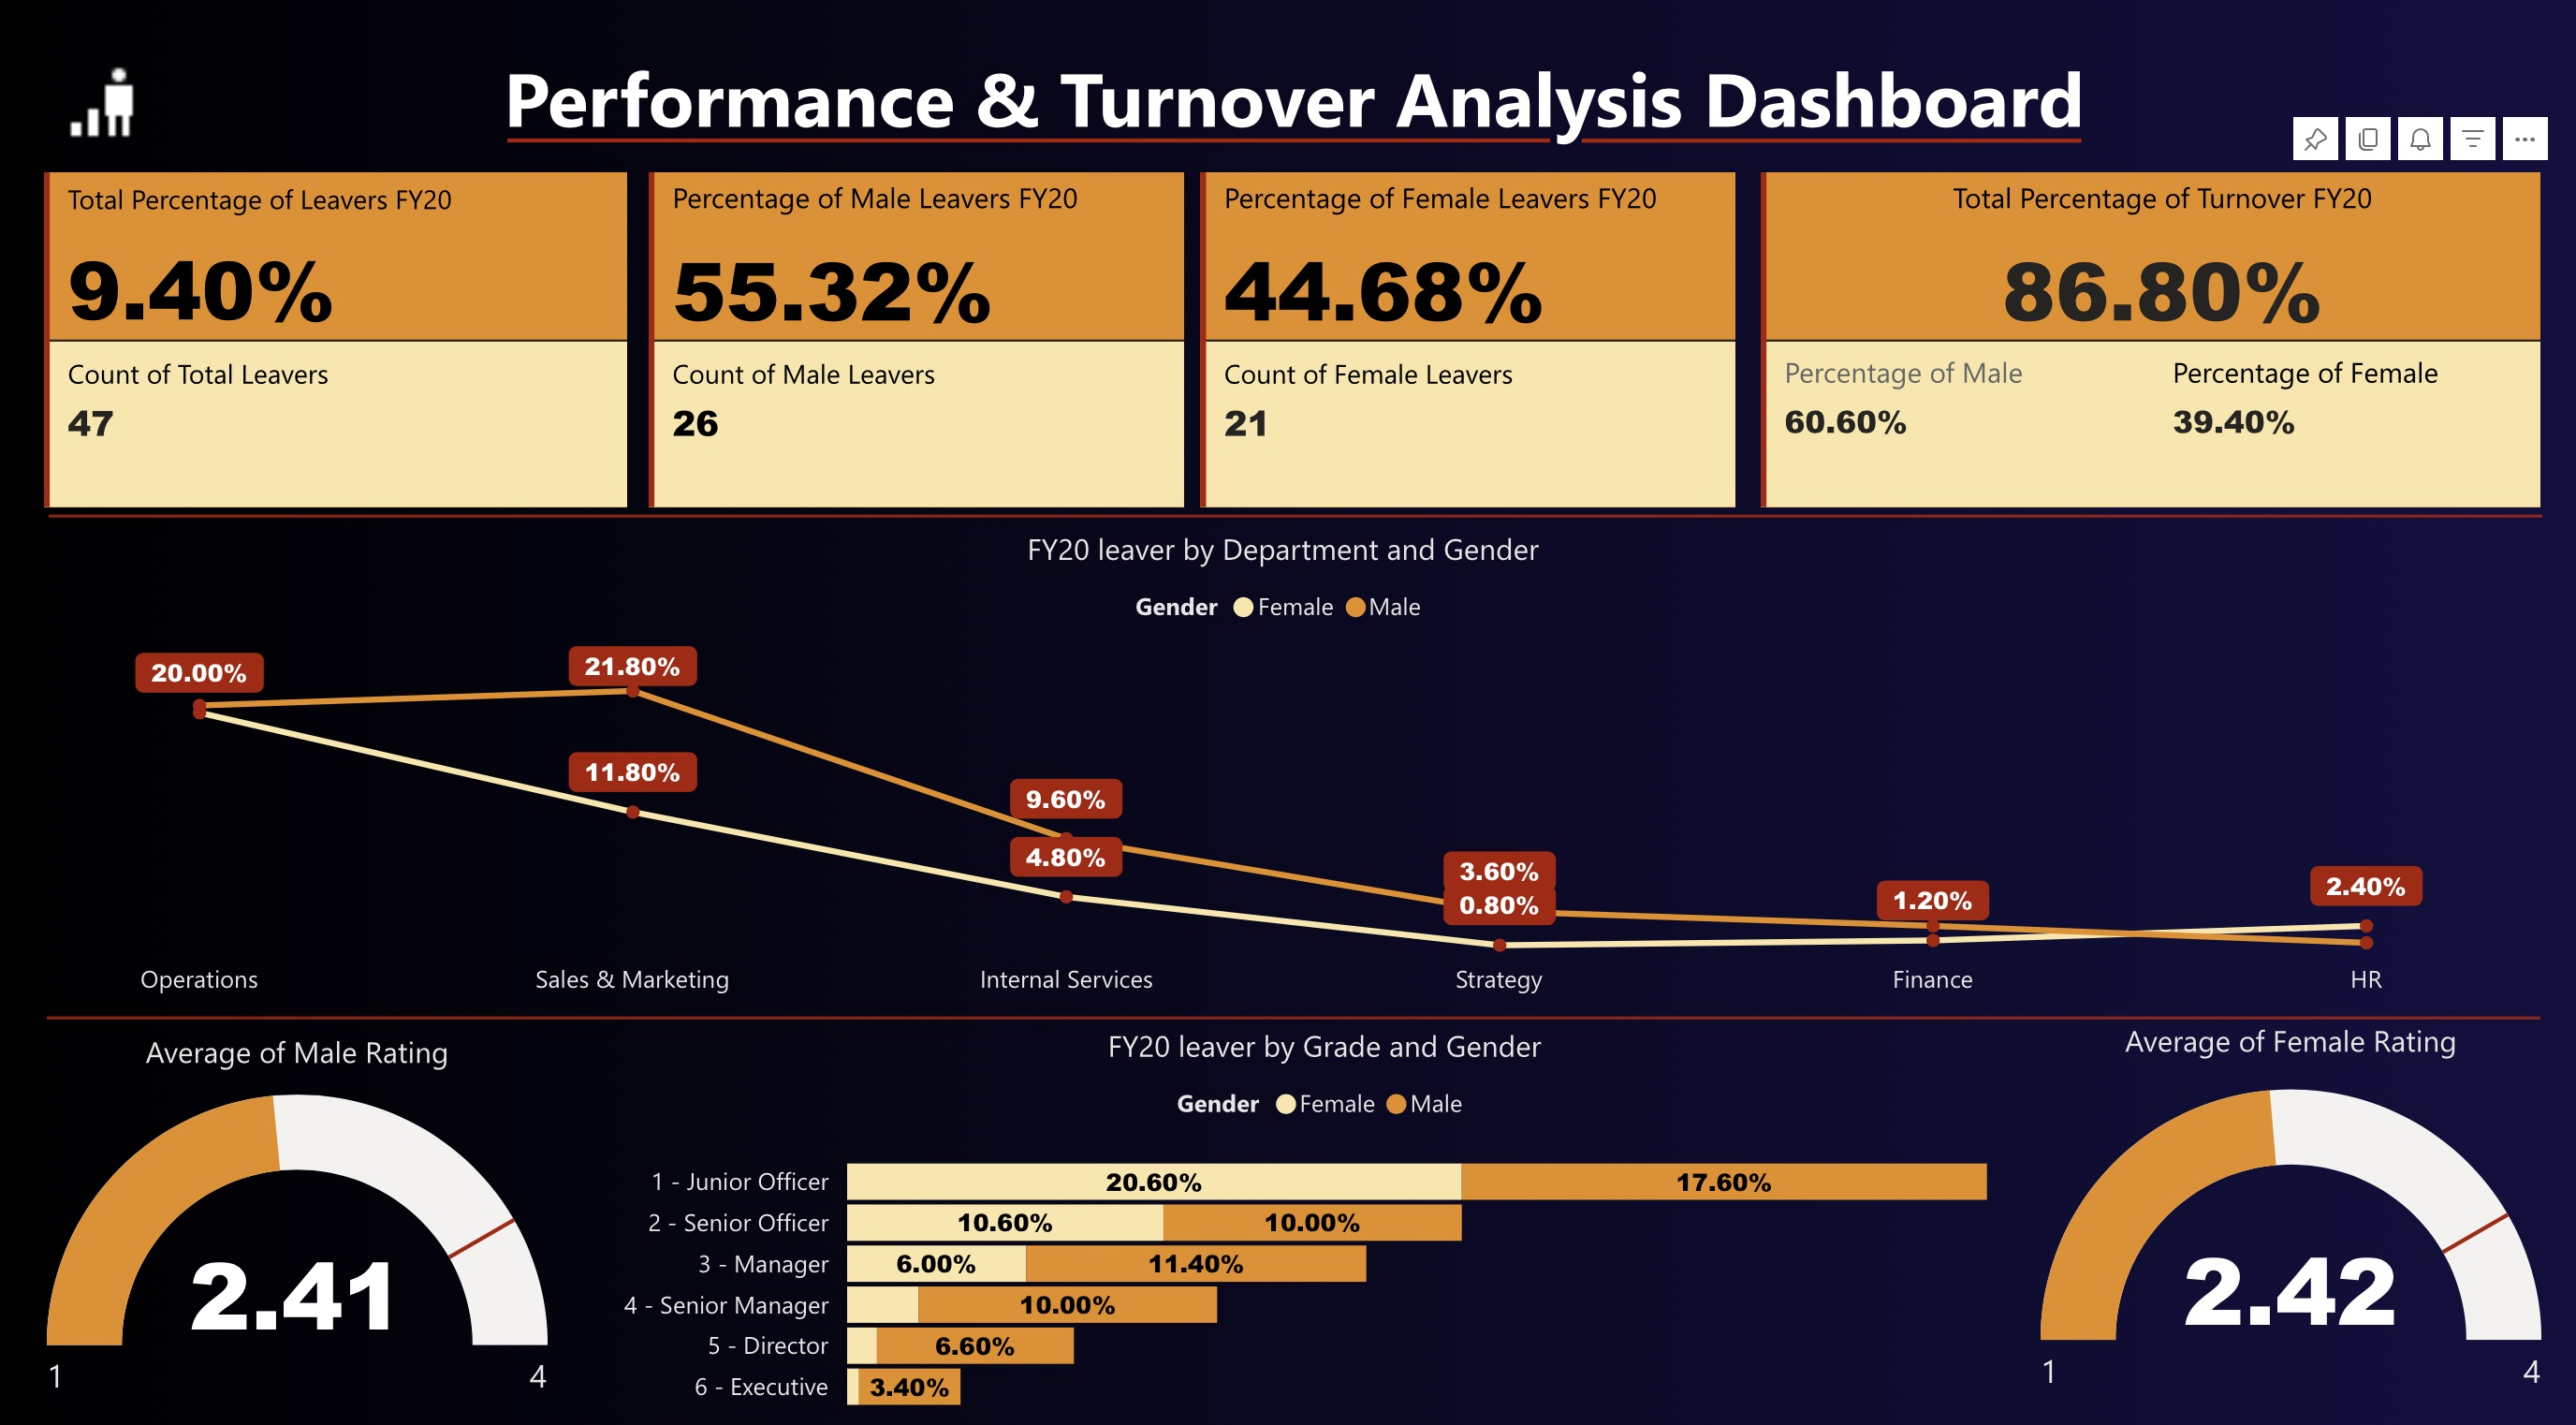

Layout of this report page (visuals, bound fields, positions):
{"tool":"powerbi","page":{"name":"Performance & Turnover","canvas":[1300,720],"ordinal":2},"visuals":[{"type":"cardVisual","fields":{"Data":["Measures Table.%_of_male_leavers","Measures Table.%_of_female_leavers"]},"box":[323.2,83.2,553.6,177.3],"z":0},{"type":"cardVisual","fields":{"Data":["Measures Table.%_count_leavers_FY20"]},"box":[21.8,82.7,301.4,177.3],"z":1000},{"type":"cardVisual","fields":{"Data":["3. Performance Measures.%_turnover"]},"box":[876.8,83.2,399.2,177.3],"z":2000},{"type":"textbox","box":[23.2,20.8,1253,79.5],"z":3000},{"type":"gauge","title":"Average of Male Rating","fields":{"Y":["Avg(Pharma Group AG.male rating)"],"MinValue":["Min(Pharma Group AG.male rating)"],"MaxValue":["Max(Pharma Group AG.male rating)"]},"box":[27.7,516.2,249.7,194.2],"z":4000},{"type":"gauge","title":"Average of Female Rating","fields":{"Y":["Avg(Pharma Group AG.female rating)"],"MinValue":["Min(Pharma Group AG.female rating)"],"MaxValue":["Max(Pharma Group AG.female rating)"]},"box":[1021.5,510.1,249.7,200.2],"z":5000},{"type":"lineChart","title":"FY20 leaver by Department  and Gender","fields":{"Category":["Pharma Group AG.Department @01.07.2020"],"Y":["Divide(CountNonNull(Pharma Group AG.FY20 leaver?), ScopedEval(CountNonNull(Pharma Group AG.FY20 leaver?), []))"],"Series":["Pharma Group AG.Gender"]},"box":[18.1,260.5,1253.1,242.4],"z":6000},{"type":"shape","box":[257.8,66.1,520,12.2],"z":7000},{"type":"shape","box":[792.9,66.2,249.1,12.4],"z":8000},{"type":"shape","box":[27.7,502.9,1243.4,13.3],"z":9000},{"type":"barChart","title":"FY20 leaver by Grade and Gender","fields":{"Y":["Divide(CountNonNull(Pharma Group AG.FY20 leaver?), ScopedEval(CountNonNull(Pharma Group AG.FY20 leaver?), []))"],"Category":["Backing 1.GRADE"],"Series":["Pharma Group AG.Gender"]},"box":[307.5,502.9,714,207.4],"z":10000},{"type":"shape","box":[28.9,253.3,1243.4,13.3],"z":11000},{"type":"image","box":[28.9,27.7,53.1,50.6],"z":12000}]}

Visuals, with their boxes on the page's 1300x720 design canvas (x1, y1, x2, y2). These are canvas units, not pixel positions in the 2576x1425 screenshot, which may show the page scaled, cropped or inside an application window:
cardVisual - Measures Table.%_of_male_leavers x Measures Table.%_of_female_leavers: 323,83,877,260
cardVisual - Measures Table.%_count_leavers_FY20: 22,83,323,260
cardVisual - 3. Performance Measures.%_turnover: 877,83,1276,260
textbox: 23,21,1276,100
"Average of Male Rating" gauge: 28,516,277,710
"Average of Female Rating" gauge: 1022,510,1271,710
"FY20 leaver by Department  and Gender" lineChart: 18,260,1271,503
shape: 258,66,778,78
shape: 793,66,1042,79
shape: 28,503,1271,516
"FY20 leaver by Grade and Gender" barChart: 308,503,1022,710
shape: 29,253,1272,267
image: 29,28,82,78
